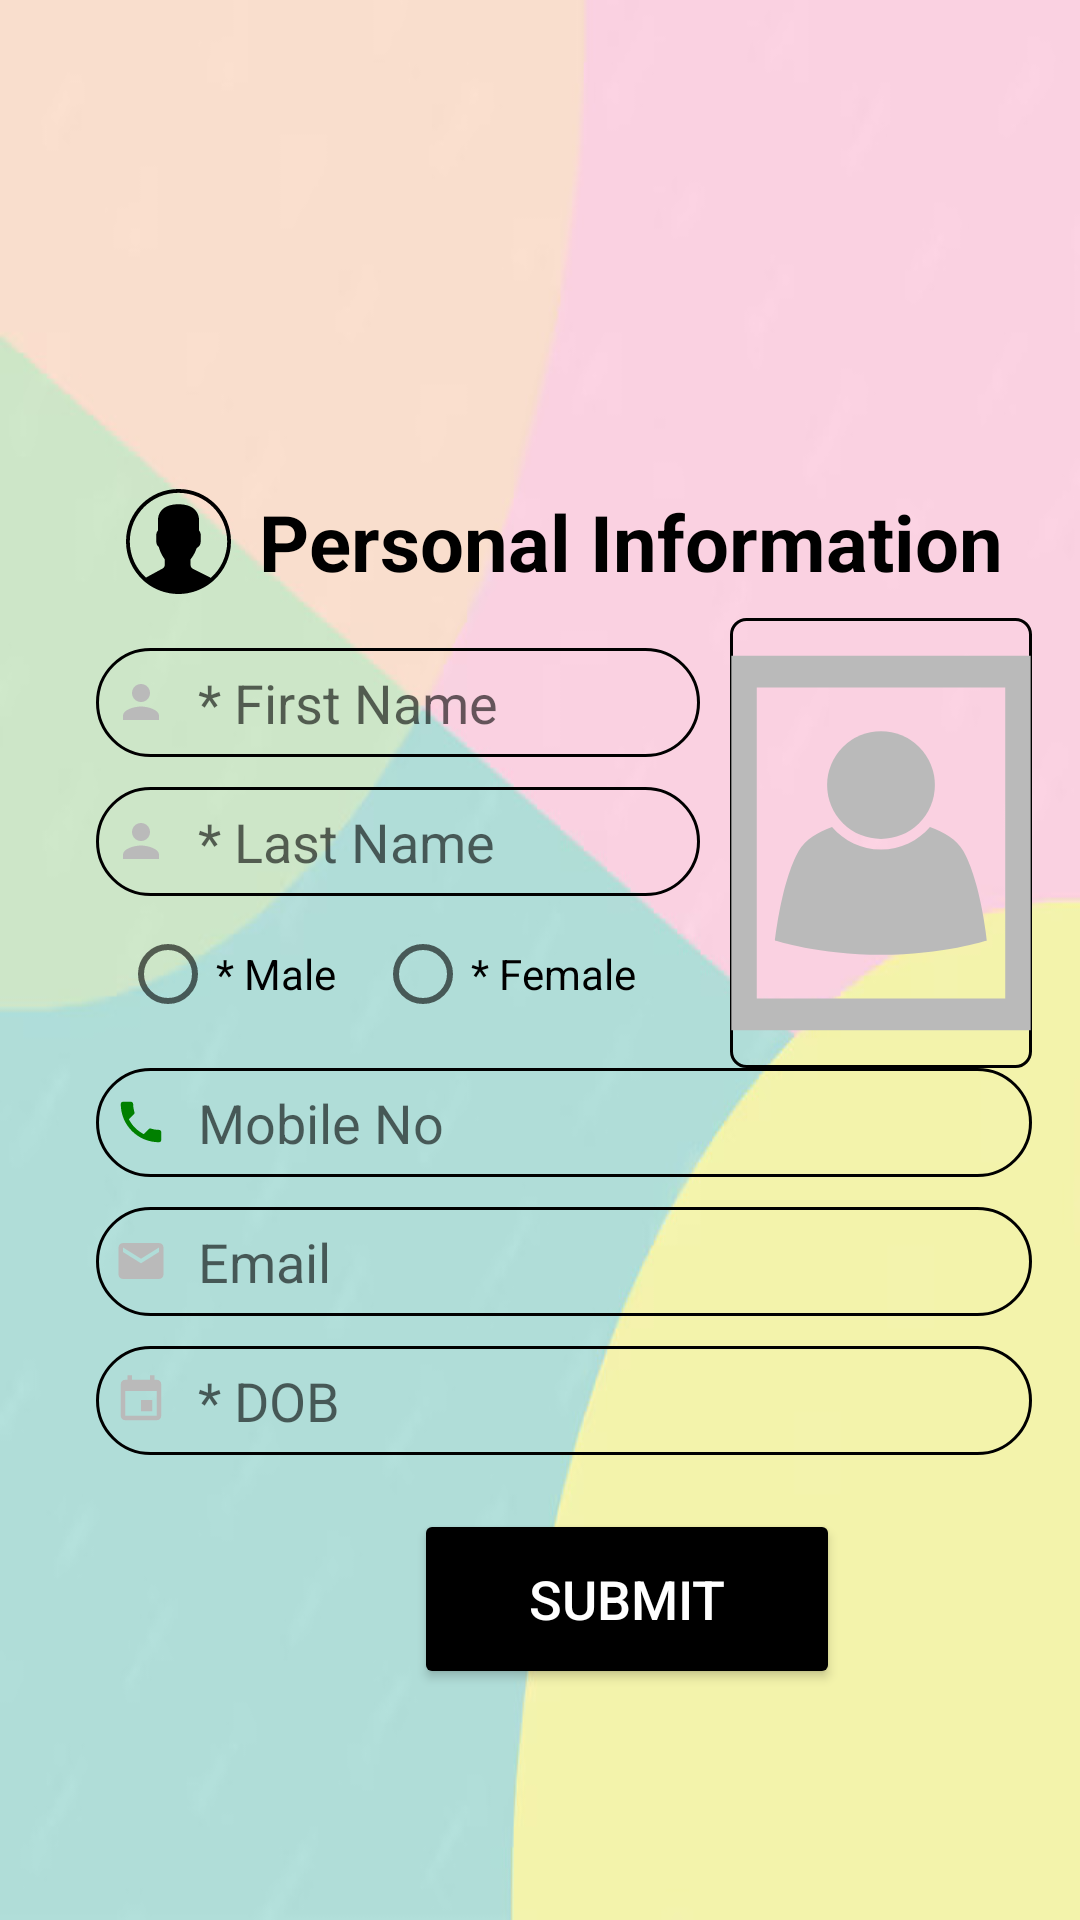

Named icons in this screenshot (1080 × 1920) and their centers, (x=x, y=y):
person details: (x=183, y=541)
